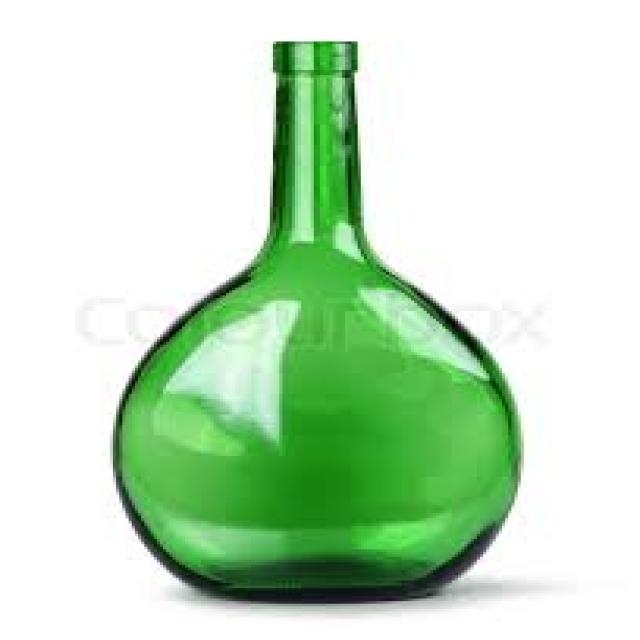glass: (110, 39, 518, 601)
